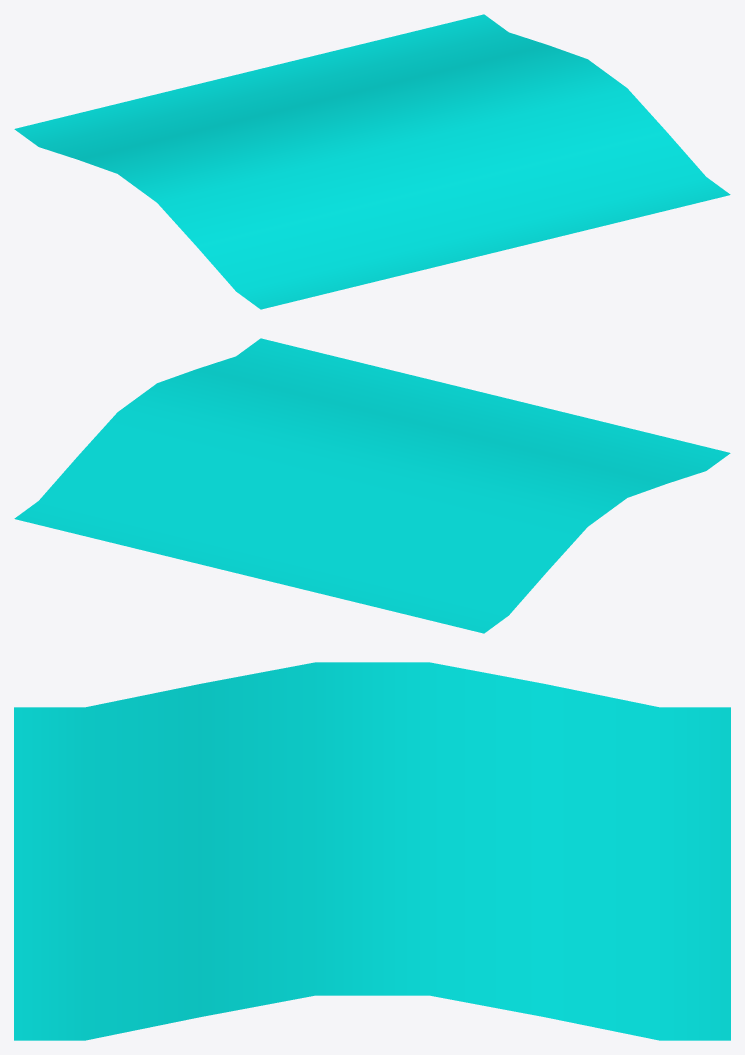
Rendered from roof_solid.fbx.
The picture shows the model from 3 angles, top to bottom: view 1: azimuth 30°, elevation 25°; view 2: azimuth 150°, elevation 25°; view 3: azimuth 270°, elevation 25°; orthographic projection. The views are drawn at different scales.
Parts seen in each view (by area): view 1: roof_tile; view 2: roof_tile; view 3: roof_tile.
Part boxes in pixels (x1=…): roof_tile: x1=14, y1=14, x2=730, y2=309; roof_tile: x1=14, y1=338, x2=730, y2=633; roof_tile: x1=14, y1=662, x2=730, y2=1040.
Bounding box in the file's own units: 3.3 × 0.2073 × 3.
